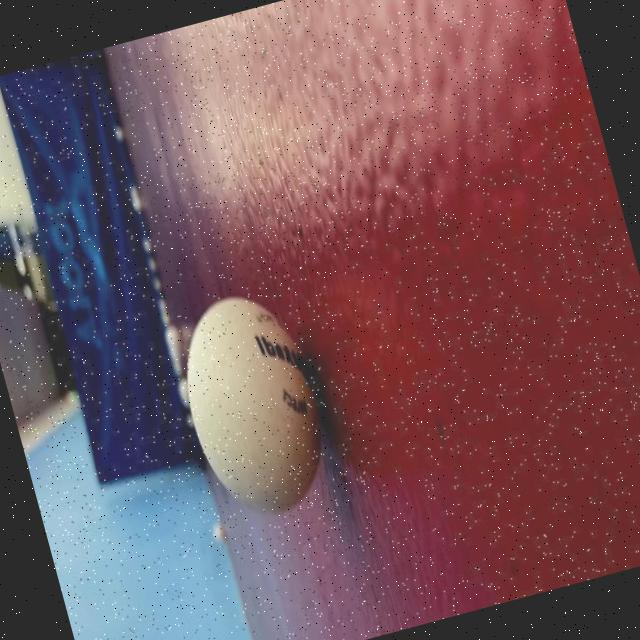ping-pong-ball: (150, 253, 380, 557)
